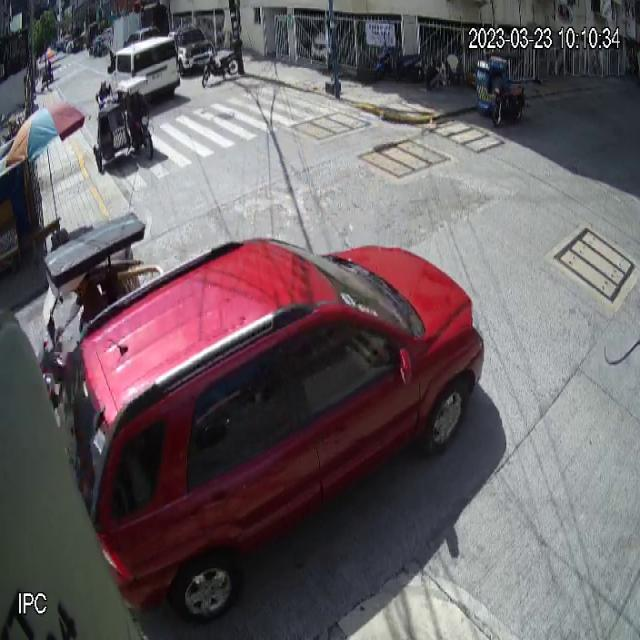Car: (67, 231, 487, 623)
Motorcycle: (201, 38, 243, 88)
Tricycle: (93, 75, 154, 174), (475, 50, 526, 127)
Van: (107, 36, 181, 98)
